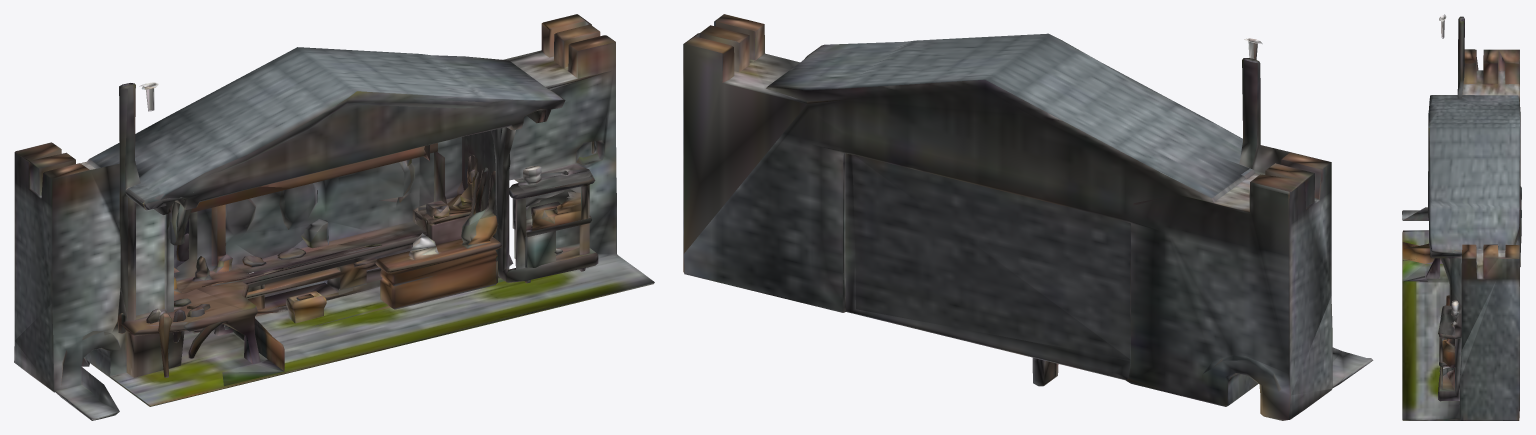
Rendered from briarhold-courtyard-service-arcade-256.glb.
3 renders of one model, left to right at view 1: azimuth 30°, elevation 25°; view 2: azimuth 150°, elevation 25°; view 3: azimuth 270°, elevation 25°, orthographic. The views are drawn at different scales.
Parts seen in each view (by area): view 1: briarhold-courtyard-service-arcade; view 2: briarhold-courtyard-service-arcade; view 3: briarhold-courtyard-service-arcade.
Part boxes in pixels (<box>): briarhold-courtyard-service-arcade: <box>14,14,654,420</box>; briarhold-courtyard-service-arcade: <box>683,14,1373,420</box>; briarhold-courtyard-service-arcade: <box>1402,14,1521,420</box>.
Bounding box in the file's own units: 5.8 × 3.2 × 1.4.
Materials: 1 (1 with a texture image).
